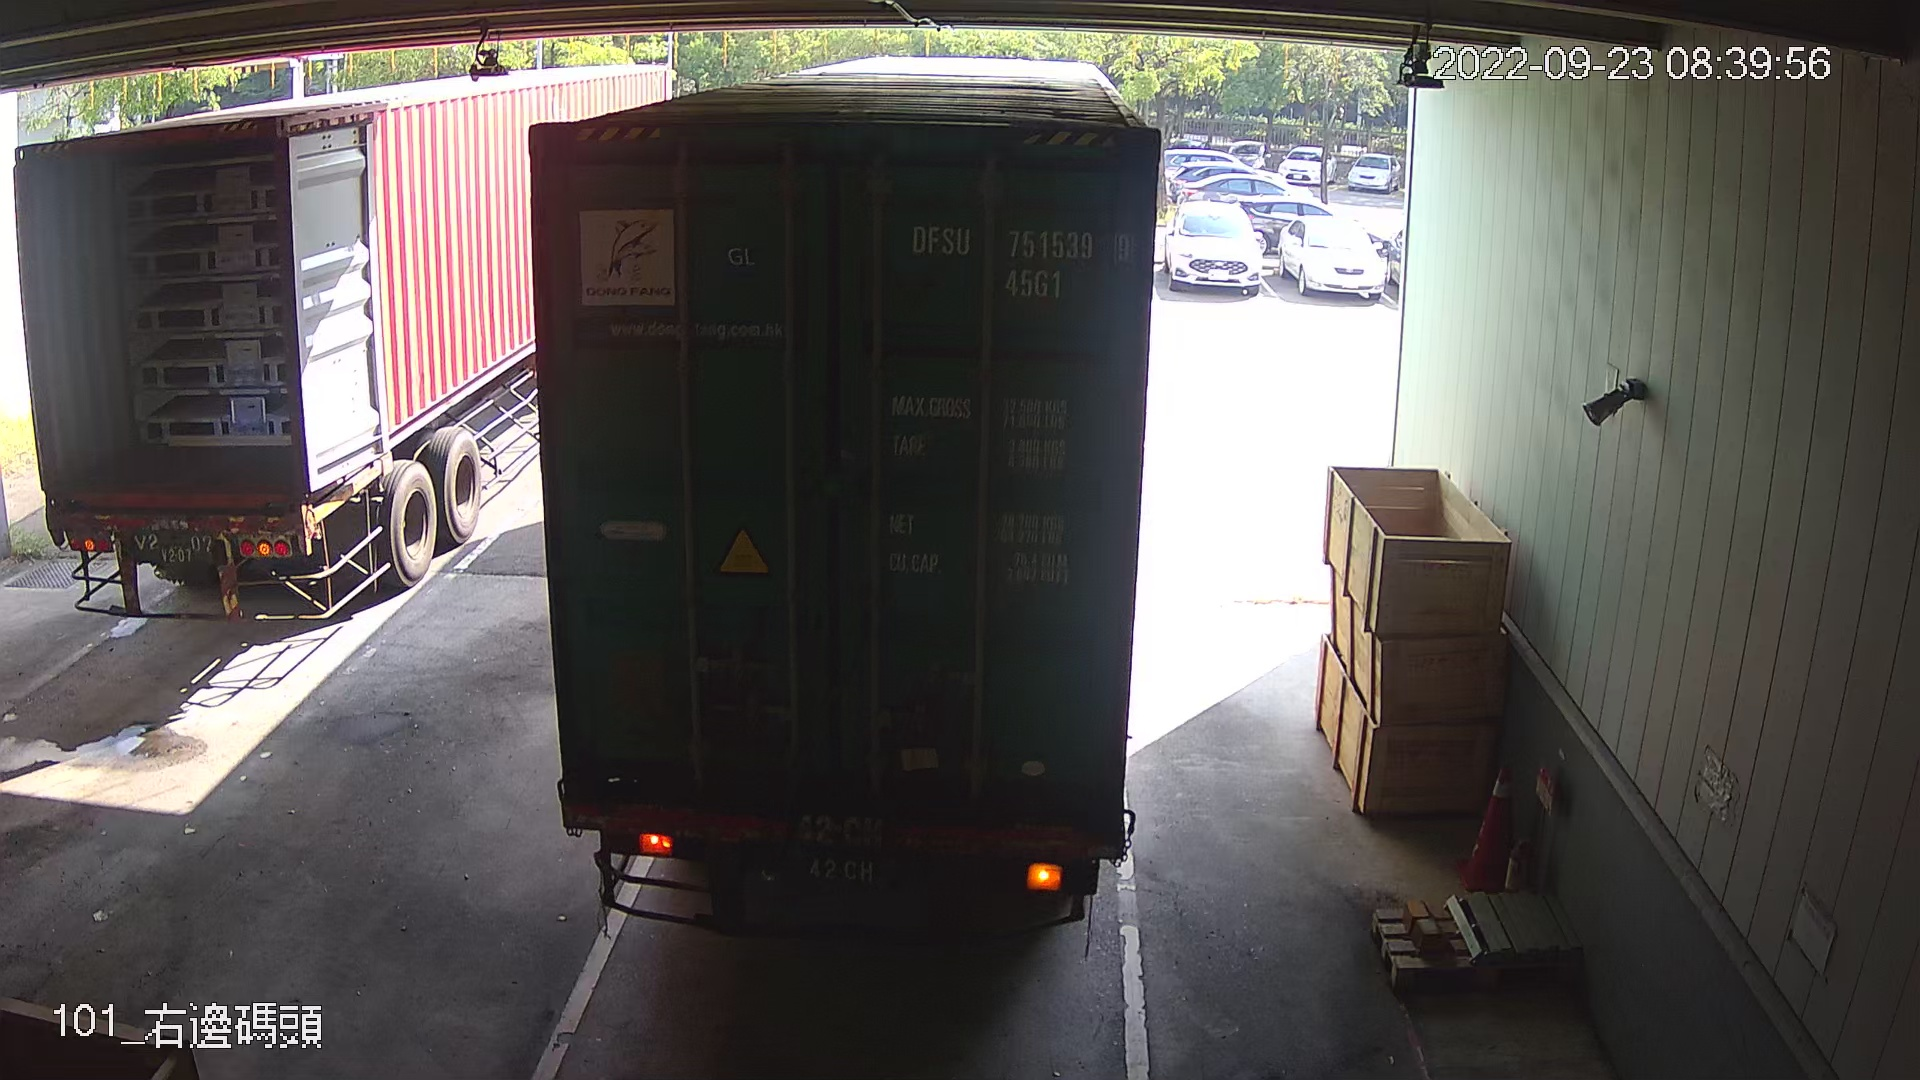container: (891, 208, 1145, 310)
